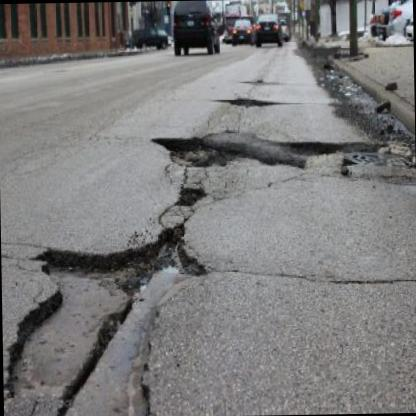pothole: (1, 220, 213, 416), (148, 132, 228, 170), (280, 134, 378, 157), (172, 184, 208, 208), (217, 94, 274, 106)
